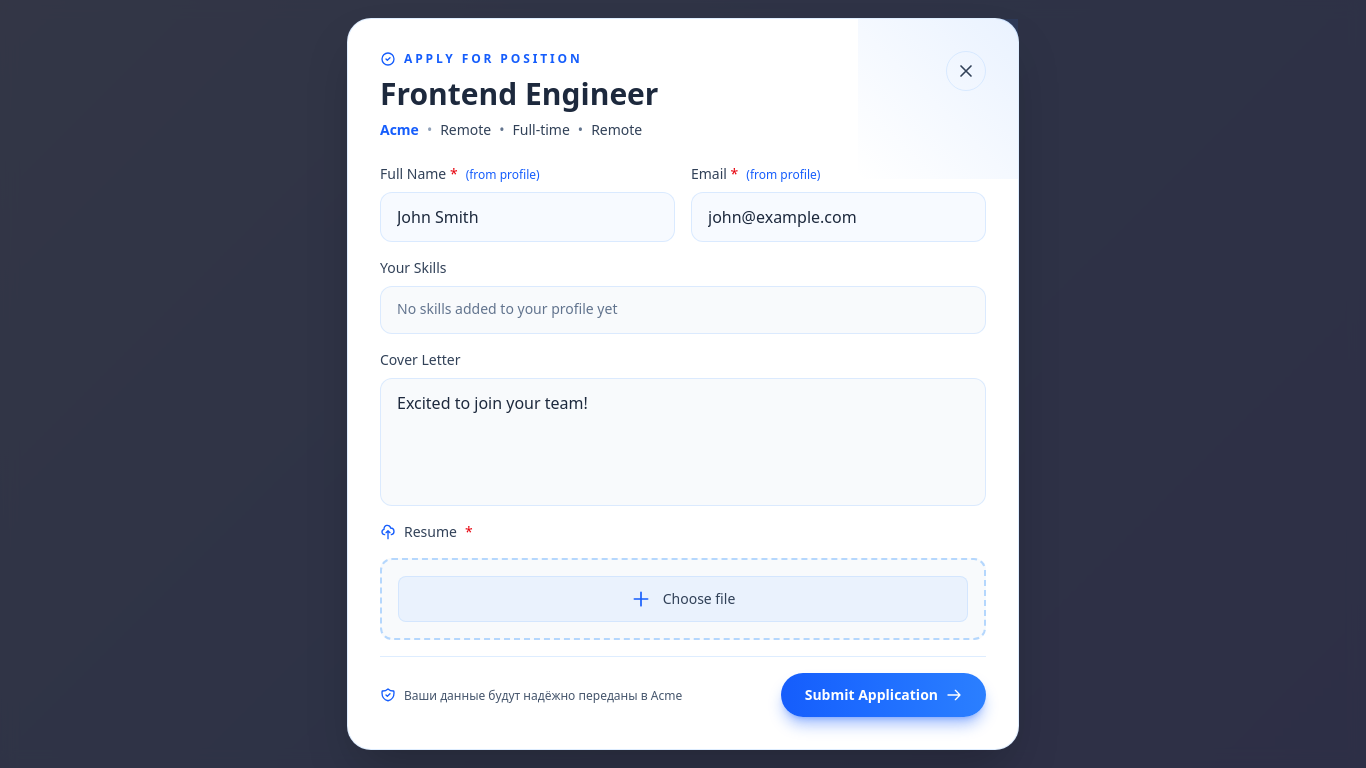
ApplicationModal › shows an error when no resume is provided
Click the button "Submit Application": x=883, y=695 [781, 673, 986, 717]
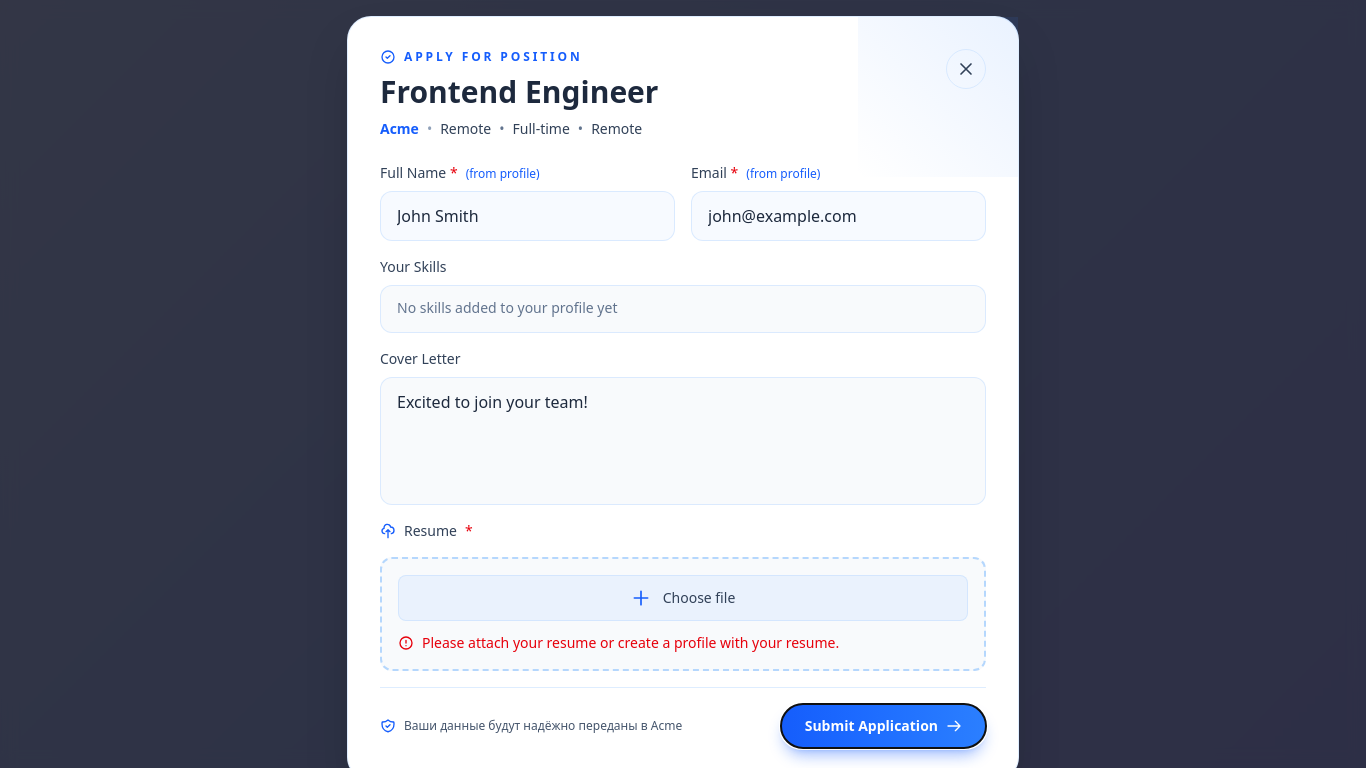
Check: the text "Please attach your resume" is shown, box [422, 632, 839, 652]
